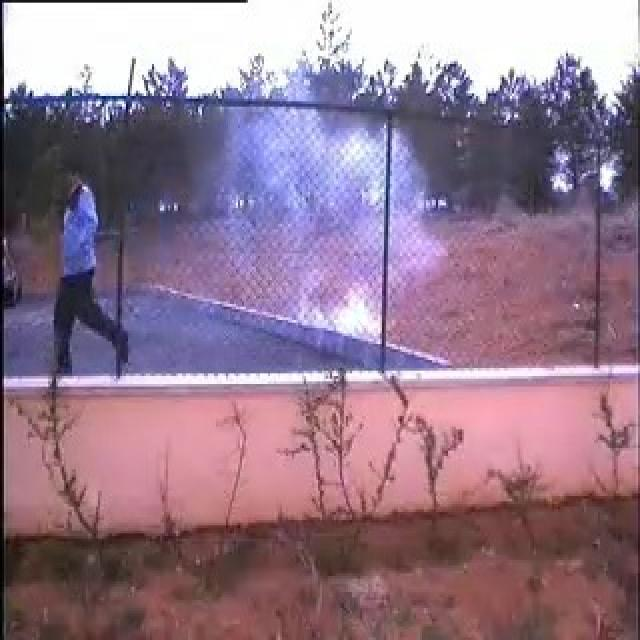smoke: (213, 106, 410, 338)
